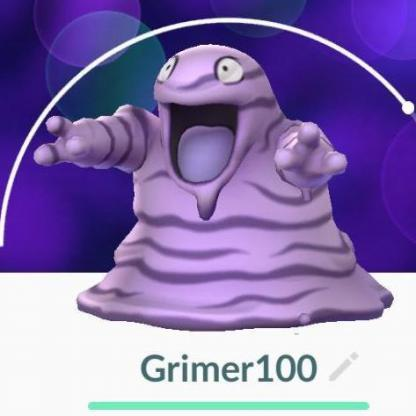Grimer: (31, 40, 398, 328)
